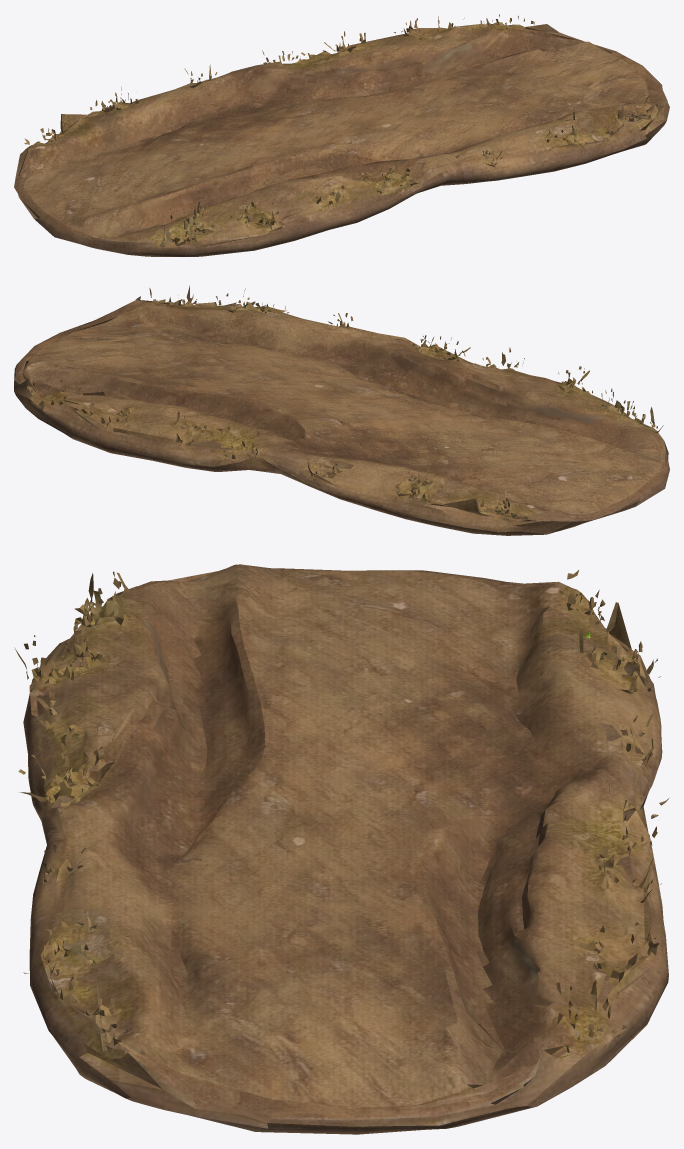
Rendered from meadows_worn_earth_b.glb.
3 renders of one model, top to bottom at view 1: azimuth 30°, elevation 25°; view 2: azimuth 150°, elevation 25°; view 3: azimuth 270°, elevation 25°, orthographic. The views are drawn at different scales.
Parts seen in each view (by area): view 1: Mesh_0; view 2: Mesh_0; view 3: Mesh_0.
Part boxes in pixels (left/top/right/bottom): Mesh_0: left=14, top=14, right=669, bottom=256; Mesh_0: left=14, top=285, right=669, bottom=535; Mesh_0: left=14, top=564, right=668, bottom=1134.
Size of the model in its own units: 1.9 by 0.166 by 0.9366.
1 material, 1 textured.
